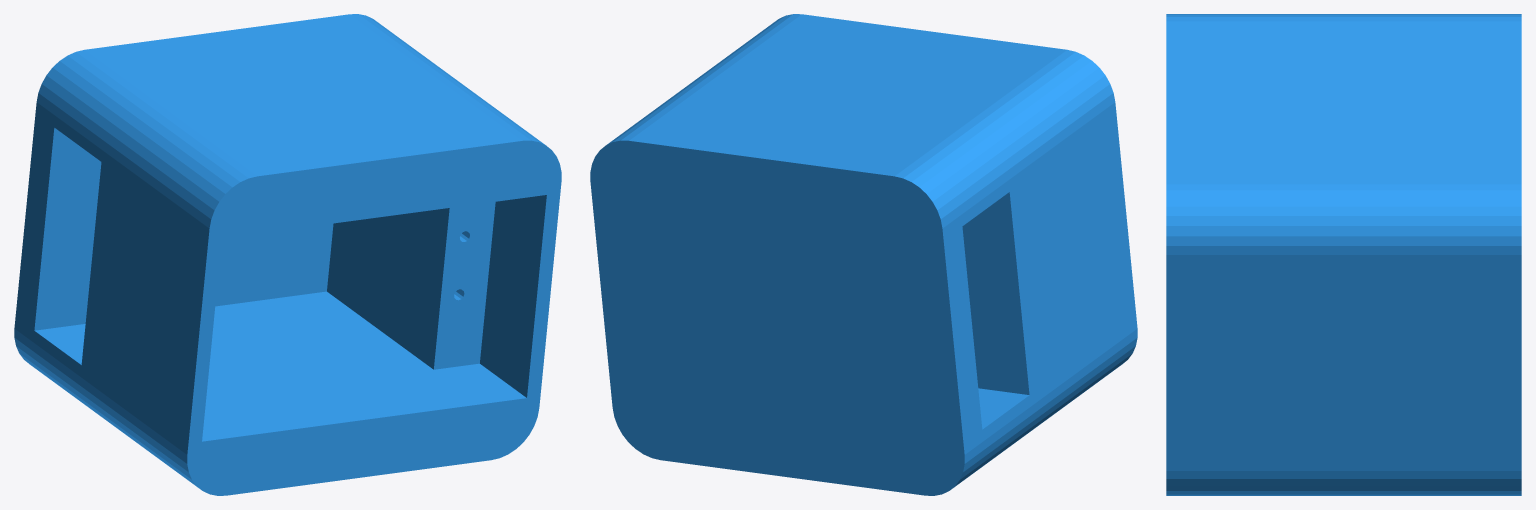
Rendered from UMIRobot_UMIRobot_link_1_vis_3.dae.
The picture shows the model from 3 angles, left to right: view 1: azimuth 30°, elevation 25°; view 2: azimuth 150°, elevation 25°; view 3: azimuth 270°, elevation 25°; orthographic projection. The views are drawn at different scales.
Parts seen in each view (by area): view 1: node; view 2: node; view 3: node.
Boxes of the visible parts, box(x1,y1,x2,y2) form: node: box(14, 14, 561, 495); node: box(590, 14, 1137, 495); node: box(1166, 14, 1521, 495).
Bounding box in the file's own units: 0.0687 × 0.0599 × 0.055.
